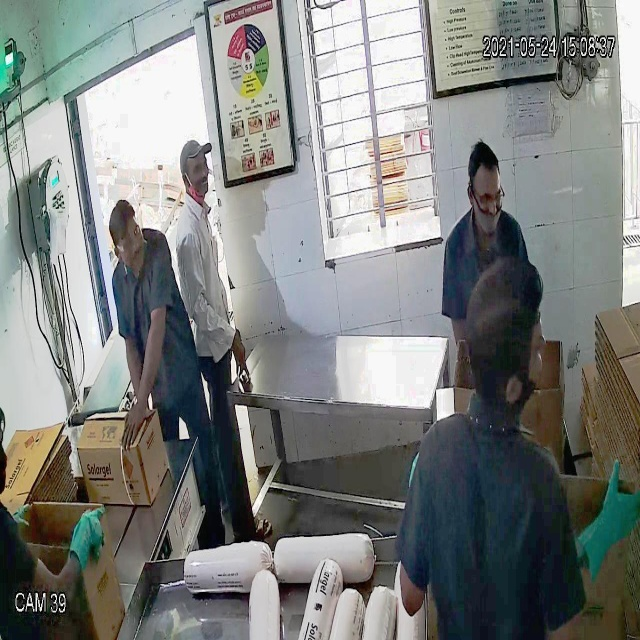Gafas: (468, 181, 508, 218)
Sin_gafas: (181, 153, 211, 180)
